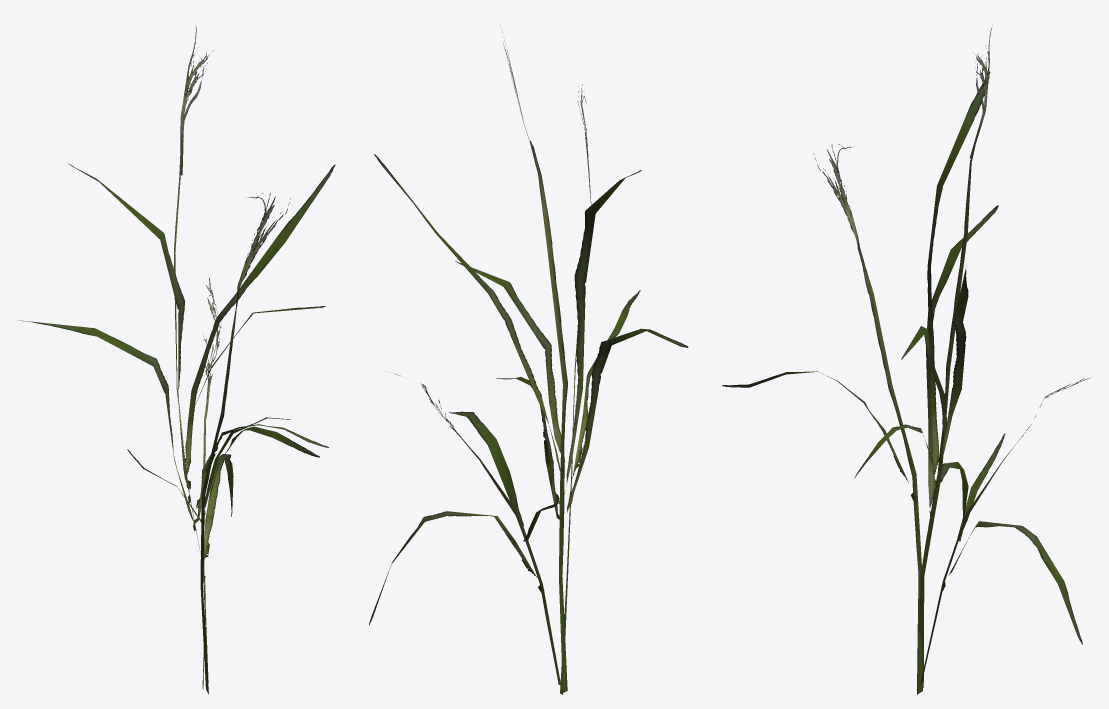
File: grass_medium_01_tall_a_LOD1.glb
3 views of the same model, side by side, from view 1: azimuth 30°, elevation 25°; view 2: azimuth 150°, elevation 25°; view 3: azimuth 270°, elevation 25° (orthographic). The views are drawn at different scales.
Visible parts, largest first — view 1: grass_medium_01_tall_a_LOD1__lod0; view 2: grass_medium_01_tall_a_LOD1__lod0; view 3: grass_medium_01_tall_a_LOD1__lod0.
Part boxes in pixels (x1=…): grass_medium_01_tall_a_LOD1__lod0: x1=18, y1=25, x2=335, y2=694; grass_medium_01_tall_a_LOD1__lod0: x1=369, y1=29, x2=688, y2=694; grass_medium_01_tall_a_LOD1__lod0: x1=722, y1=25, x2=1090, y2=694.
Size of what is drawn, in the model's own units: 0.161 by 0.3225 by 0.1585.
1 material, 1 textured.
